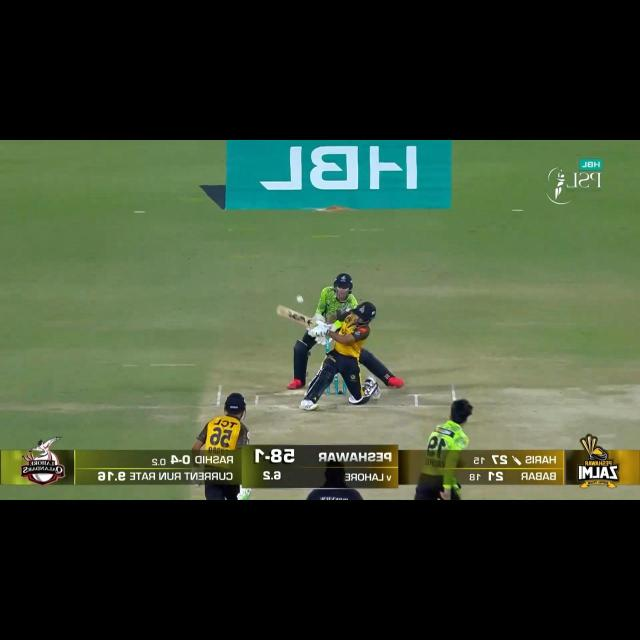bat: (270, 304, 320, 330)
toe: (270, 303, 290, 317)
